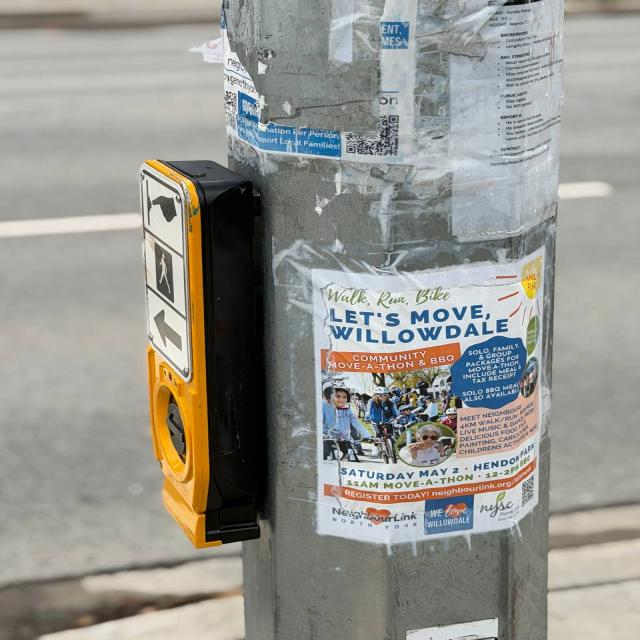Electrical Pole: (134, 2, 570, 640)
